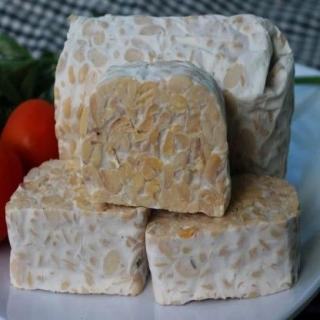Tempe: (77, 60, 234, 220)
